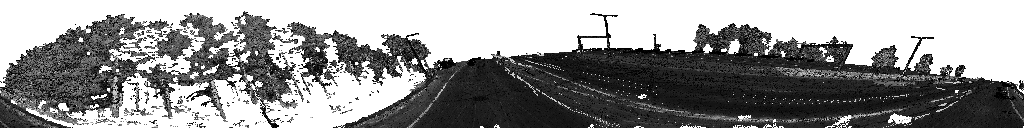gantry_sign_pole: (798, 37, 853, 73), (578, 36, 606, 55)
light_pole: (900, 37, 933, 78), (590, 14, 617, 59), (405, 34, 427, 78), (654, 33, 657, 50)
traffic_pole: (1019, 81, 1023, 89)
